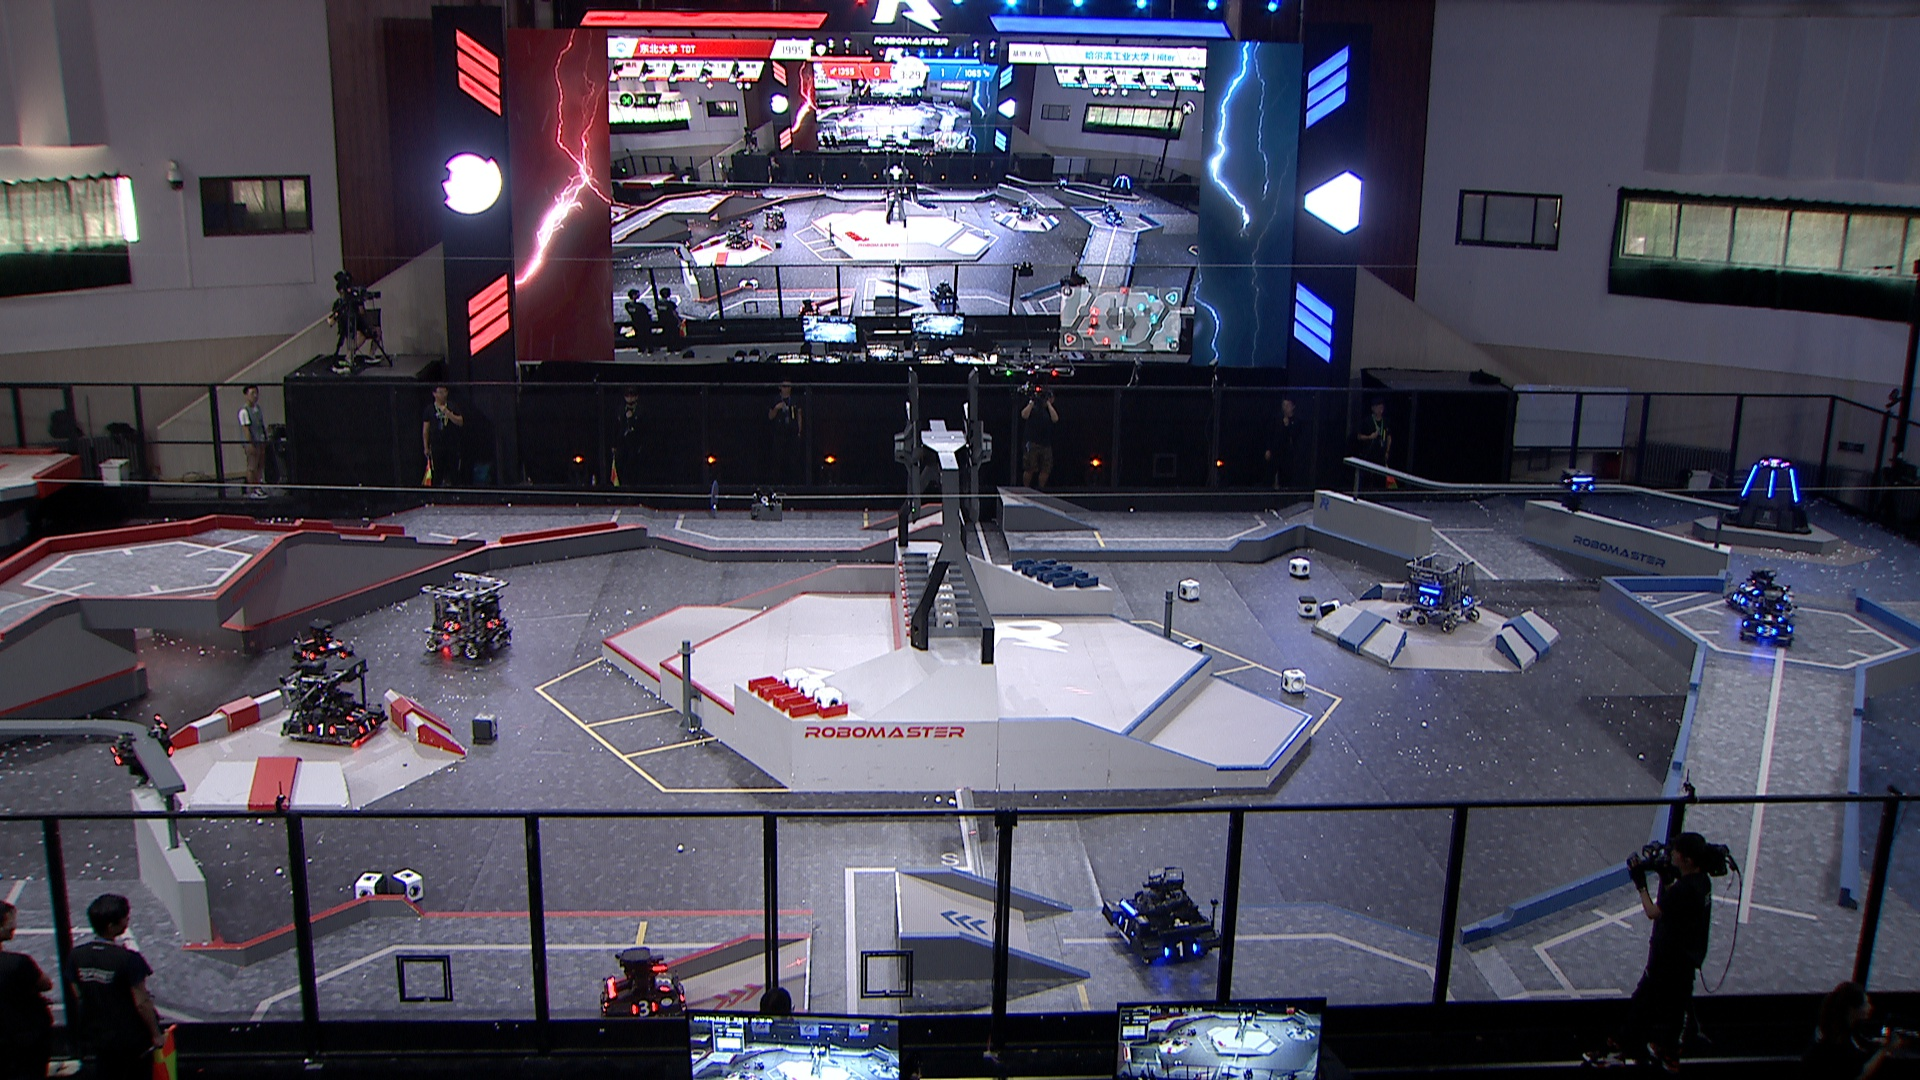armor: (626, 996, 659, 1021), (1163, 939, 1200, 960), (305, 721, 335, 741), (1741, 463, 1759, 495), (1751, 605, 1784, 622), (1116, 915, 1138, 939), (1753, 621, 1780, 640), (105, 744, 127, 767), (357, 713, 378, 737), (340, 704, 367, 723), (1787, 467, 1799, 505), (655, 971, 676, 992), (674, 981, 694, 1004), (318, 637, 343, 654), (439, 617, 462, 636), (1766, 465, 1778, 498), (1727, 589, 1749, 607), (1415, 593, 1437, 609), (1741, 580, 1760, 597), (1571, 481, 1596, 495), (481, 616, 501, 632), (1461, 591, 1476, 609), (299, 647, 315, 662)
base: (1713, 455, 1815, 534)
car: (1097, 861, 1224, 971), (276, 651, 386, 746), (419, 571, 516, 661), (595, 945, 695, 1030), (1393, 550, 1484, 632), (1733, 585, 1799, 650), (291, 615, 357, 669), (1726, 567, 1793, 613)
ignore: (1106, 174, 1138, 200), (761, 206, 790, 232), (723, 229, 756, 252), (1015, 200, 1040, 222), (732, 211, 756, 232), (1760, 458, 1789, 469)
watcher: (105, 713, 174, 790), (1557, 463, 1600, 516)
